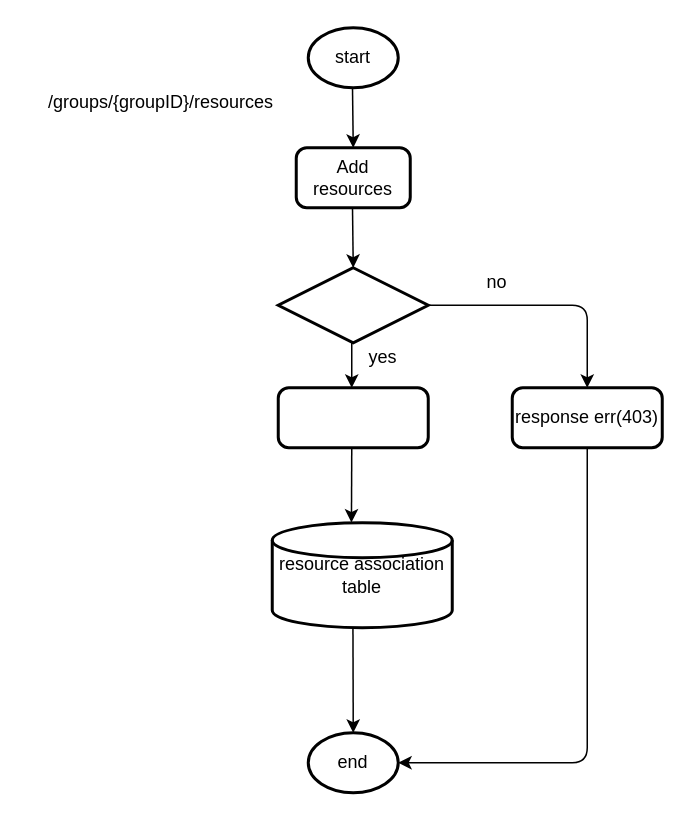
Image size: 689x819. Some labels were removed from this diagram. Here are the shapes that lost their labels. From the top down, the centre of each, then its label:
At (352,305): "Static group?".
At (352,417): "update table".
